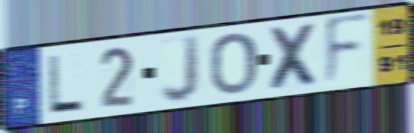2: (99, 45, 136, 110)
F: (322, 10, 372, 91)
J: (159, 34, 202, 106)
L: (44, 52, 86, 114)
O: (208, 30, 259, 97)
X: (266, 21, 324, 93)
